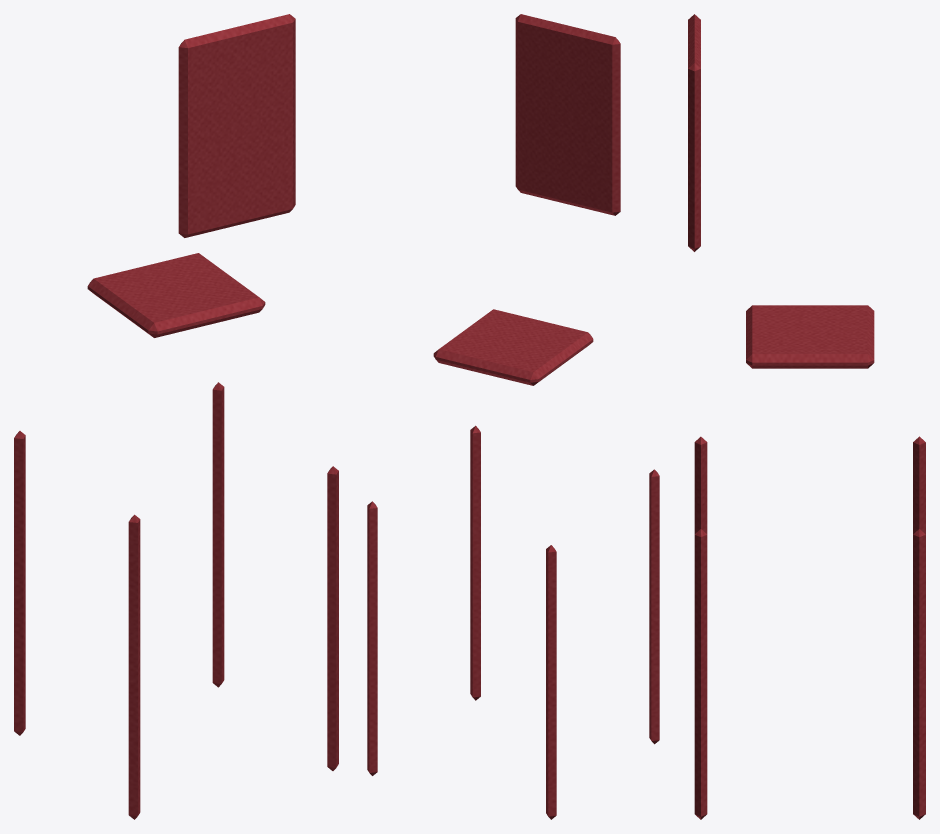
The model's file is Chair.glb.
3 views of the same model, side by side, from view 1: azimuth 30°, elevation 25°; view 2: azimuth 150°, elevation 25°; view 3: azimuth 270°, elevation 25° (orthographic). The views are drawn at different scales.
Visible parts, largest first — view 1: Chair; view 2: Chair; view 3: Chair.
Boxes of the visible parts, x1,y1,x2,y2 form: Chair: [14, 14, 338, 819]; Chair: [367, 14, 659, 819]; Chair: [688, 14, 925, 819].
Size of the model in its own units: 0.72 by 2.53 by 0.74.
1 material, 1 textured.
